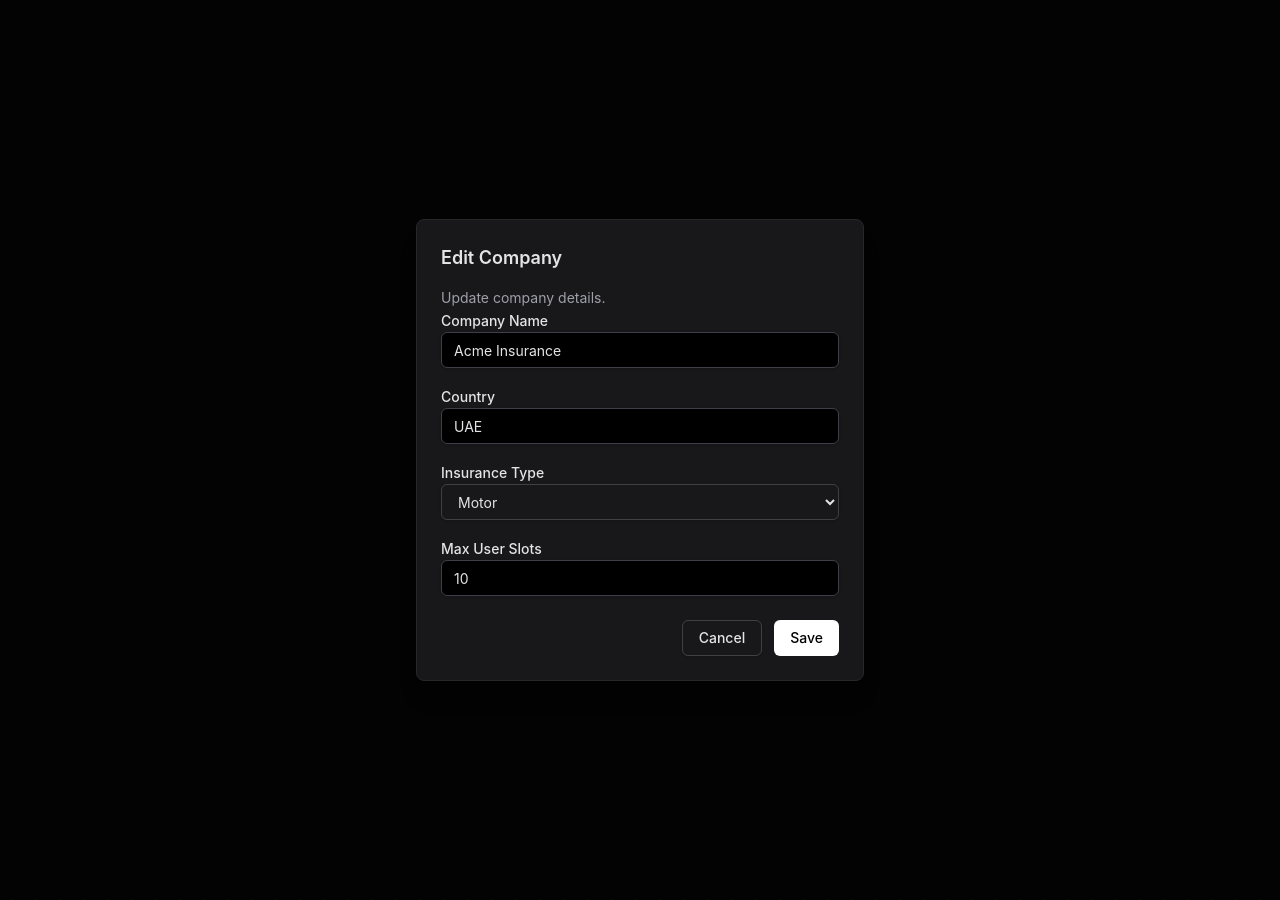
Test: EditCompanyDialog › Form validation › should require non-empty company name
Clear the field showing "Acme Insurance" at {"x": 640, "y": 350}, box x1=441 y1=332 x2=839 y2=368
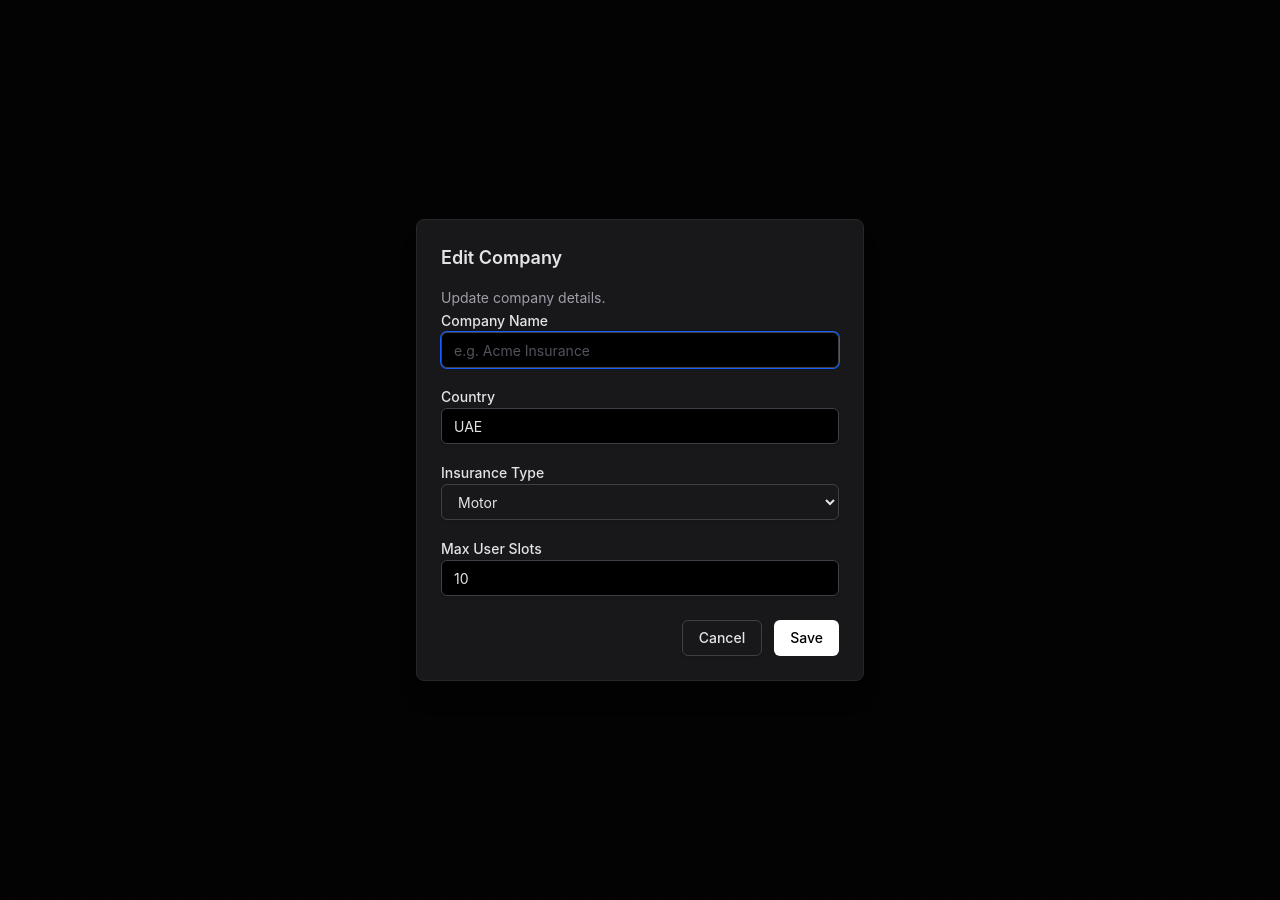
Click the button "Save" at {"x": 807, "y": 638}, box x1=774 y1=620 x2=839 y2=656
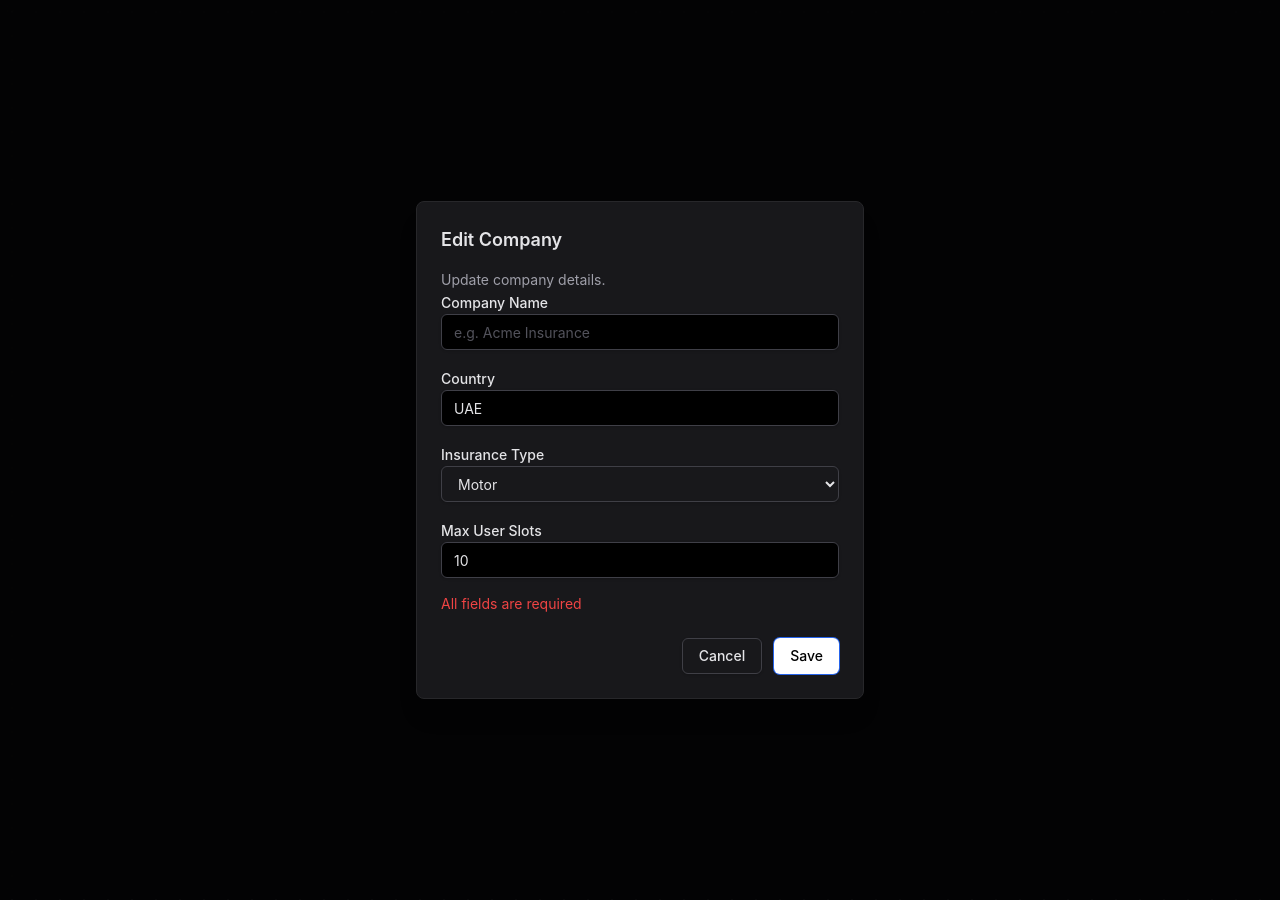
Check: the text "All fields are required" is shown, box x1=441 y1=595 x2=582 y2=612
